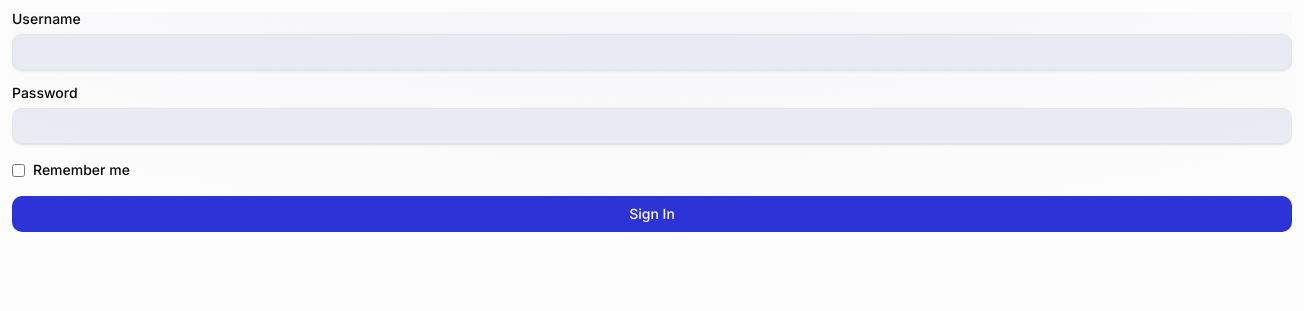
it: LoginForm › handles rate limiting lockout
Type "test" into the field labelled "Username" at point(652, 52), box [12, 34, 1292, 70]
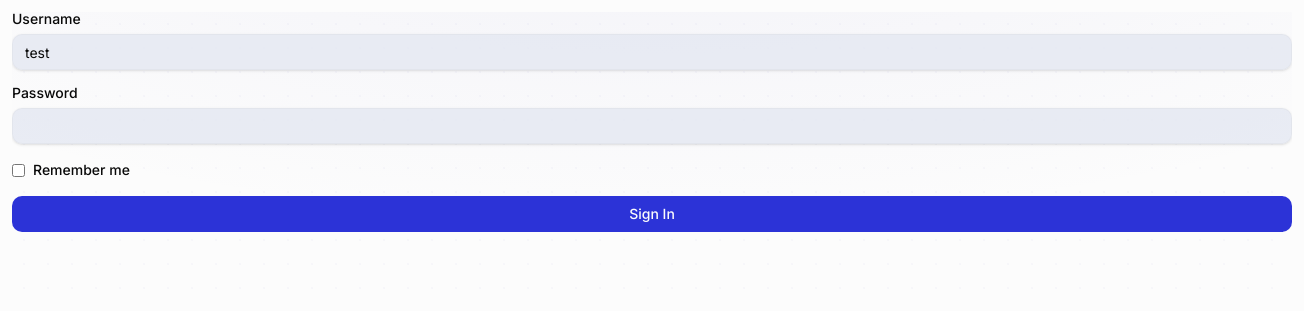
Type "password" into the password field labelled "Password" at point(652, 126), box [12, 108, 1292, 144]
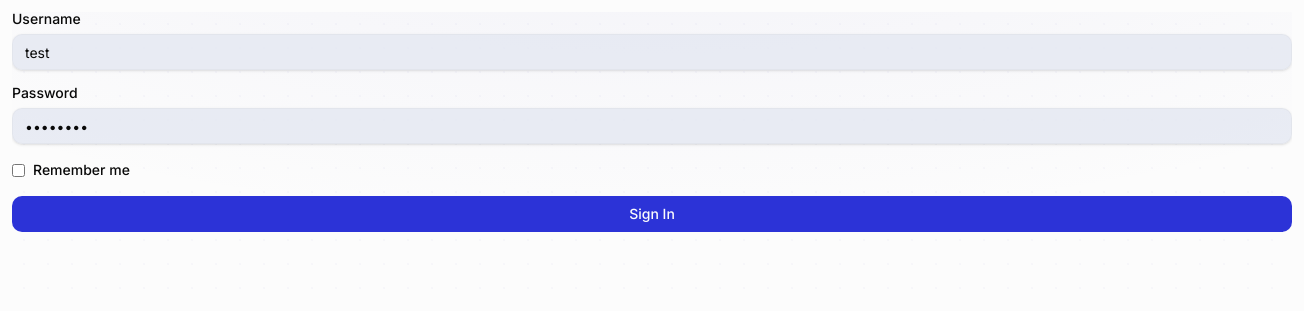
Click the button "Sign In" at point(652, 214), box [12, 196, 1292, 232]
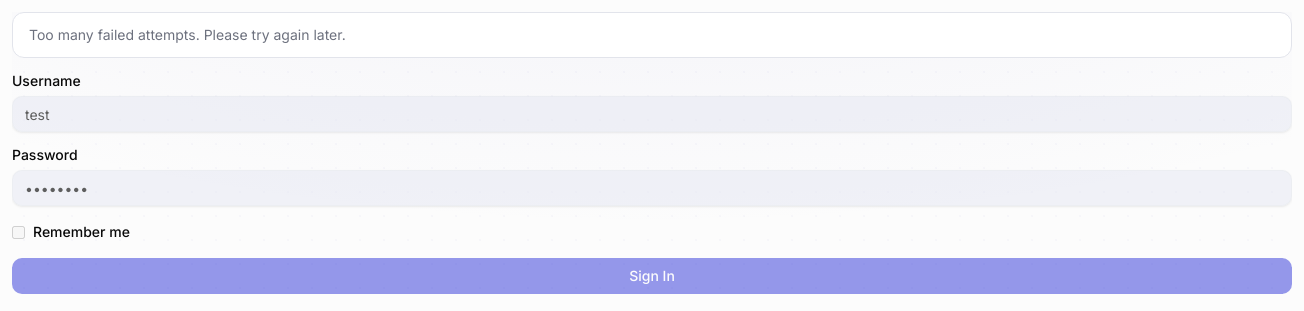
Result: the message "Too many failed attempts. Please try again later." is shown at [12, 12, 1292, 58]
Result: the button "Sign In" is disabled at [12, 258, 1292, 294]
